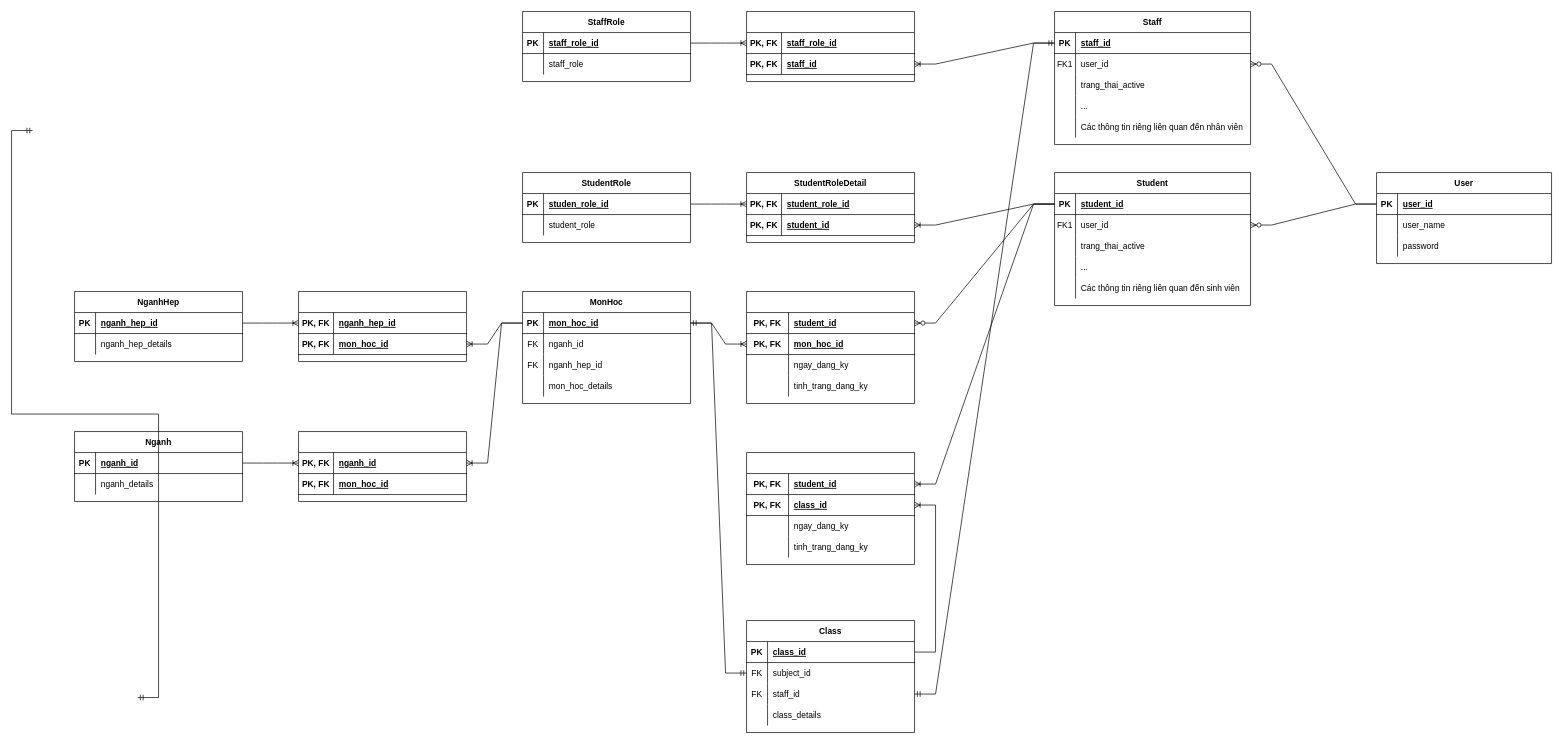
Image size: 1563x744. Some labels were removed from this diagram. Each missing label, with the box of its shape:
Class_Student: (746, 452, 915, 565)
DangKyHoc: (746, 291, 915, 404)
Nganh_MonHoc: (298, 431, 467, 502)
NganhHep_MonHoc: (298, 291, 467, 362)
StaffRoleDetail: (746, 11, 915, 82)
